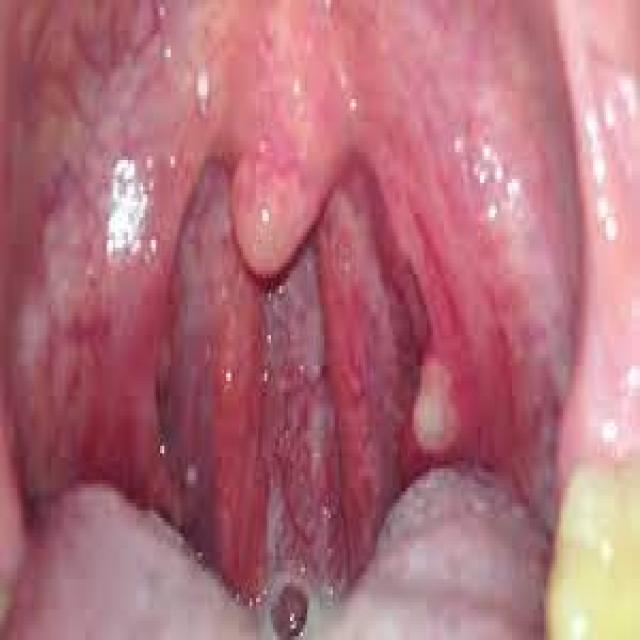processing_area: (0, 1, 638, 636)
ulcer-detection: (388, 294, 496, 474)
